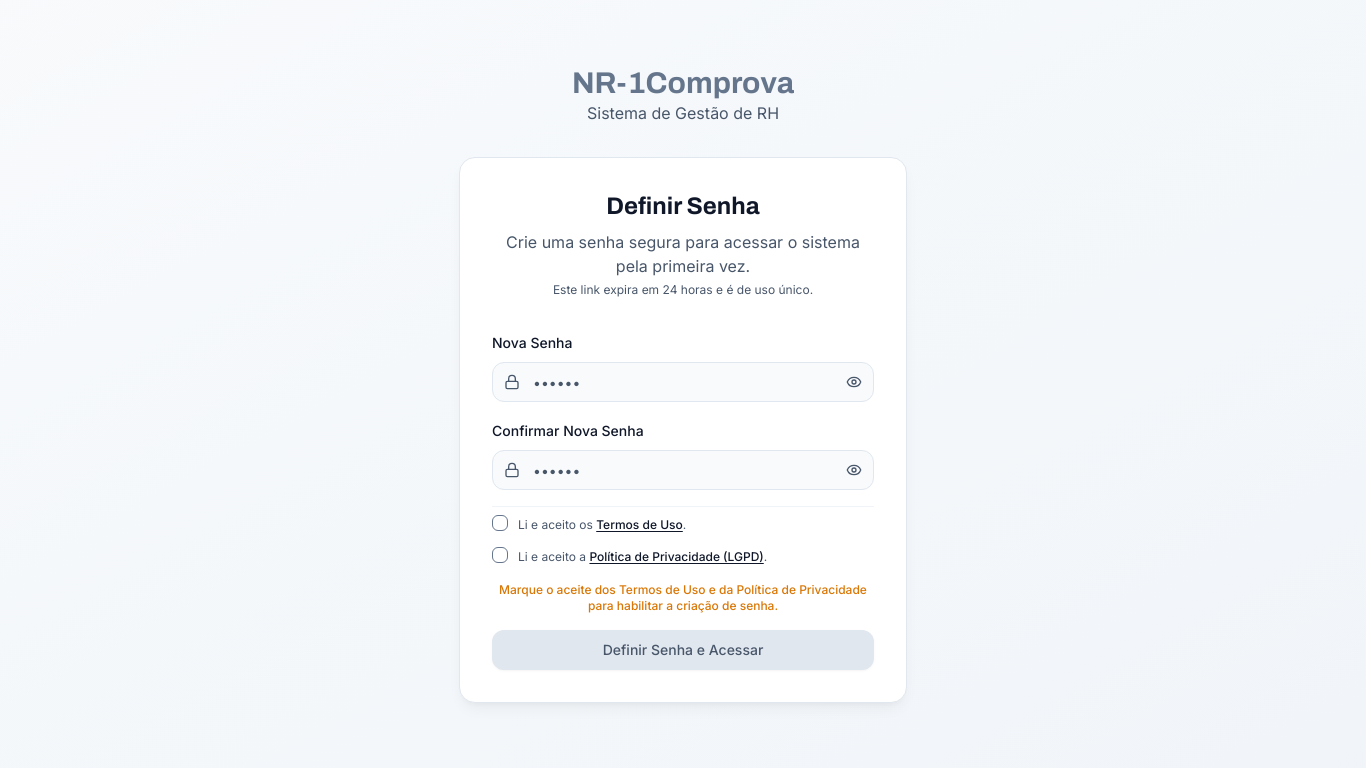
AtualizarSenha — Fluxo Anti-Scanner (Convite Seguro) › ETAPA 2: quando token já foi usado ou expirou: exibe erro claro e botão "Solicitar novo link" com e-mail preenchido
Later steps or results of the test are not shown.
Type "MinhaNovaSenha@2026" into the 1st password field with placeholder "••••••" at (683, 382), box x1=492 y1=362 x2=874 y2=402
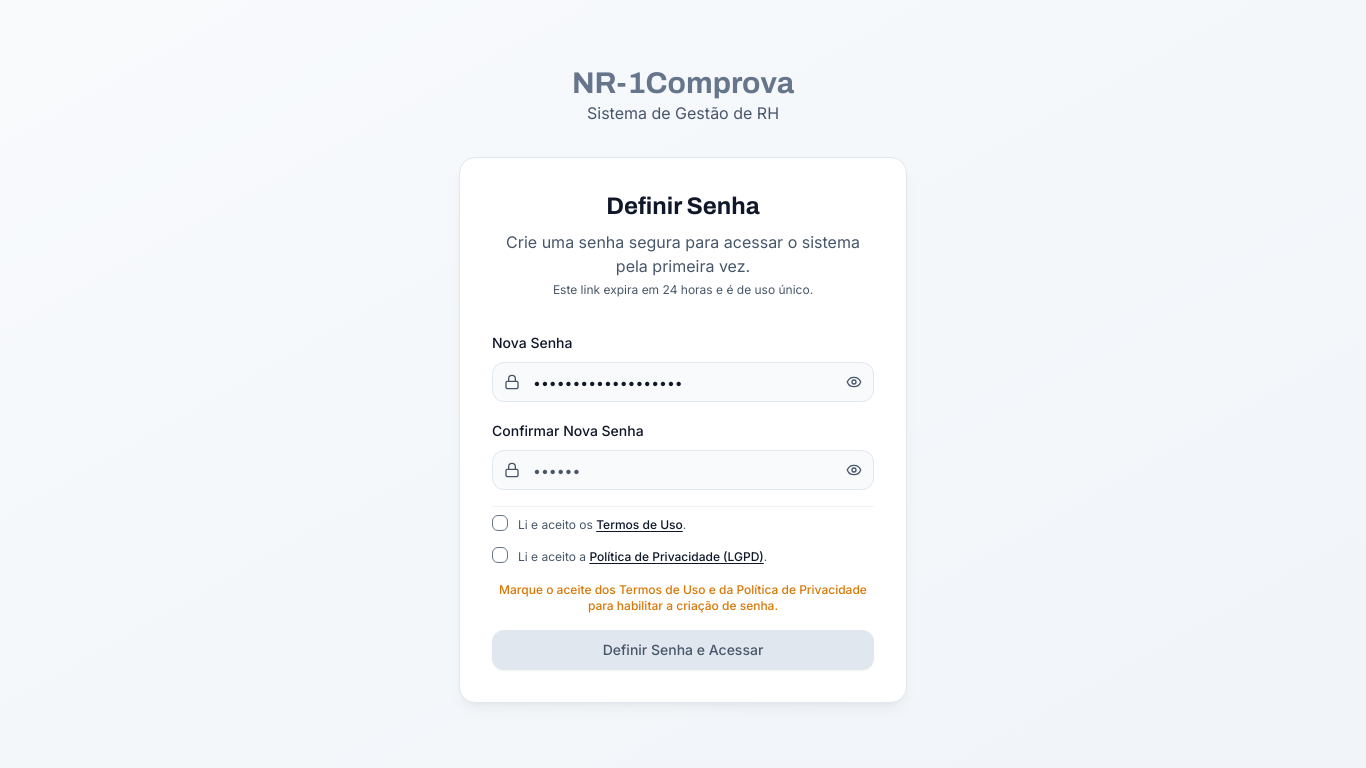
Type "MinhaNovaSenha@2026" into the password field with placeholder "••••••" at (683, 470), box x1=492 y1=450 x2=874 y2=490
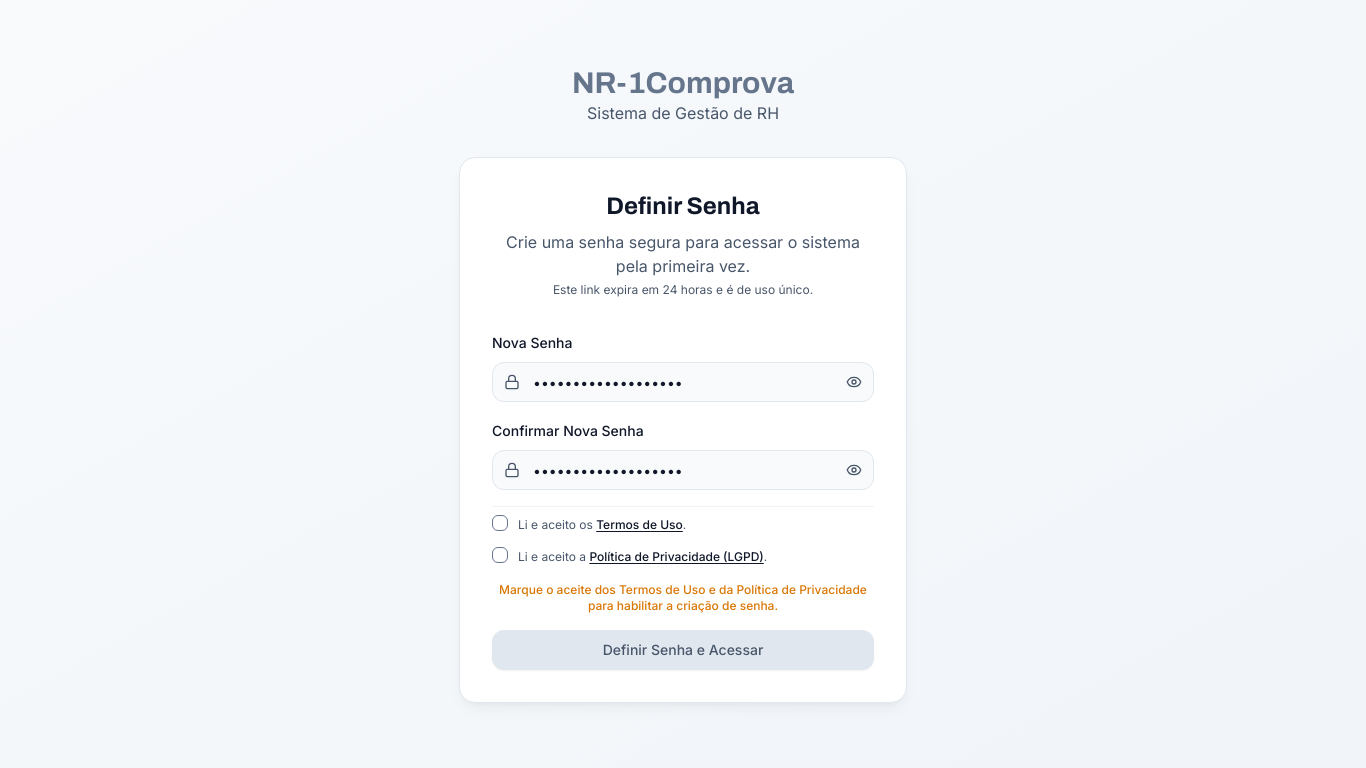
Click the checkbox named "Li e aceito os Termos de Uso" next to "Li e aceito os" at (500, 523), box x1=492 y1=515 x2=508 y2=531
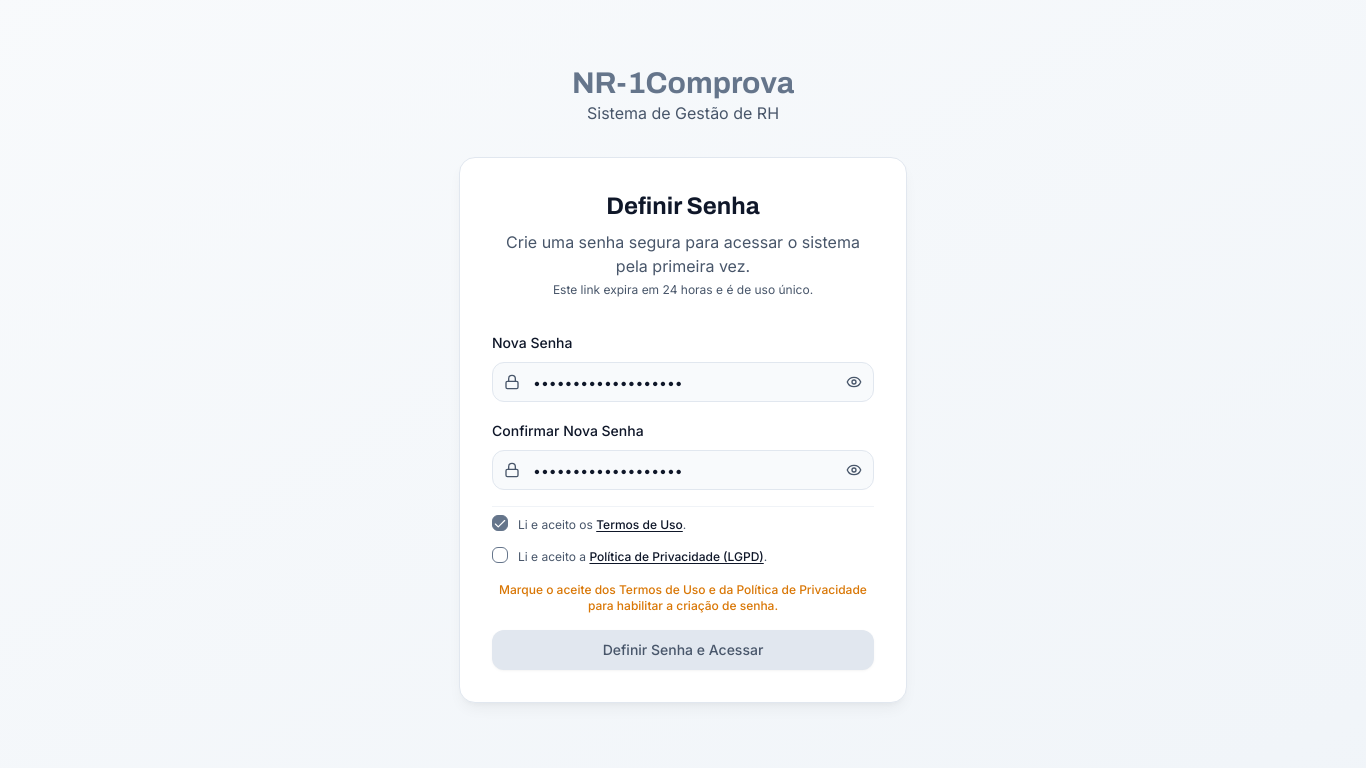
Click the checkbox named "Li e aceito a Política de Privacidade" next to "Li e aceito a" at (500, 554), box x1=492 y1=546 x2=508 y2=562
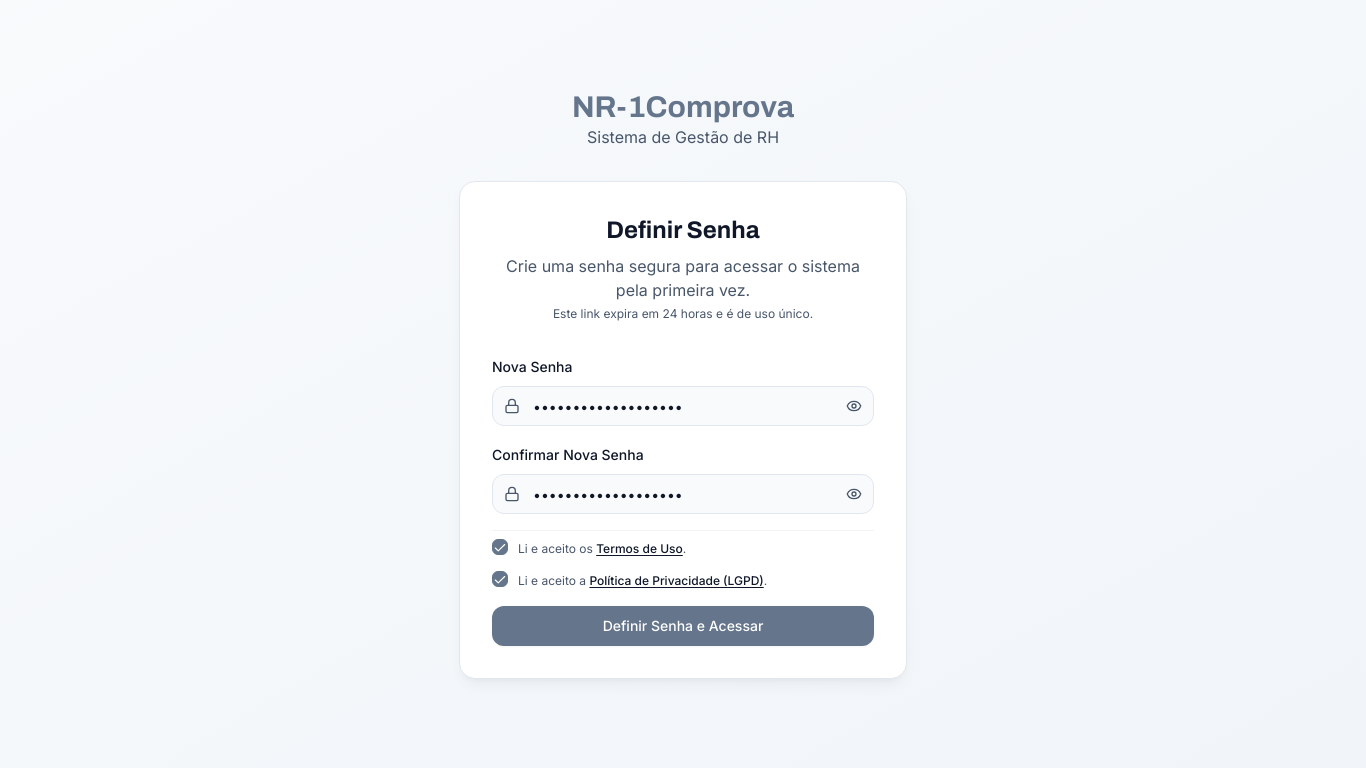
Click the button "Definir Senha e Acessar" at (683, 626), box x1=492 y1=606 x2=874 y2=646
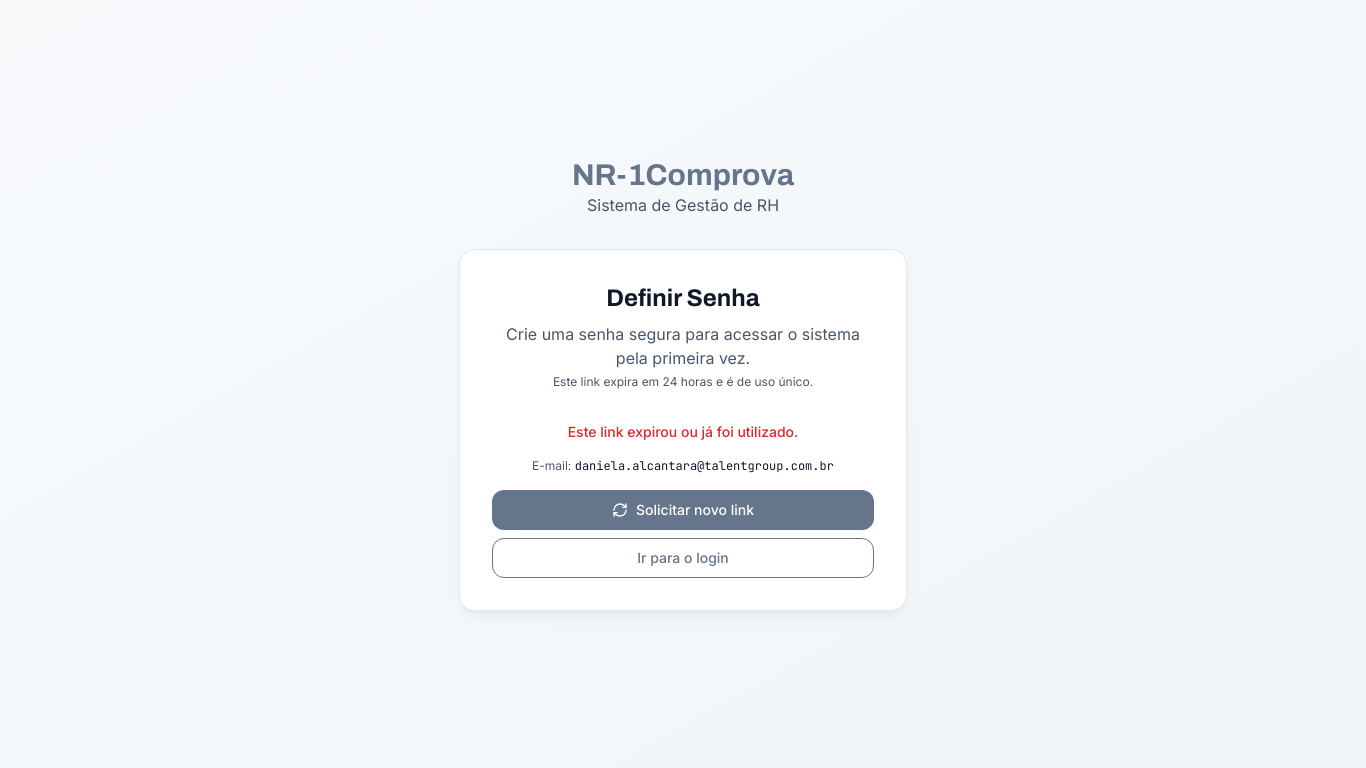
Check: the text "Este link expirou ou já foi utilizado." is shown, box x1=568 y1=423 x2=798 y2=440
Check: the button "Solicitar novo link" is shown
// Ao clicar, o modal abre com o e-mail preenchido dos parâmetros
Click the button "Solicitar novo link" at (683, 510), box x1=492 y1=490 x2=874 y2=530
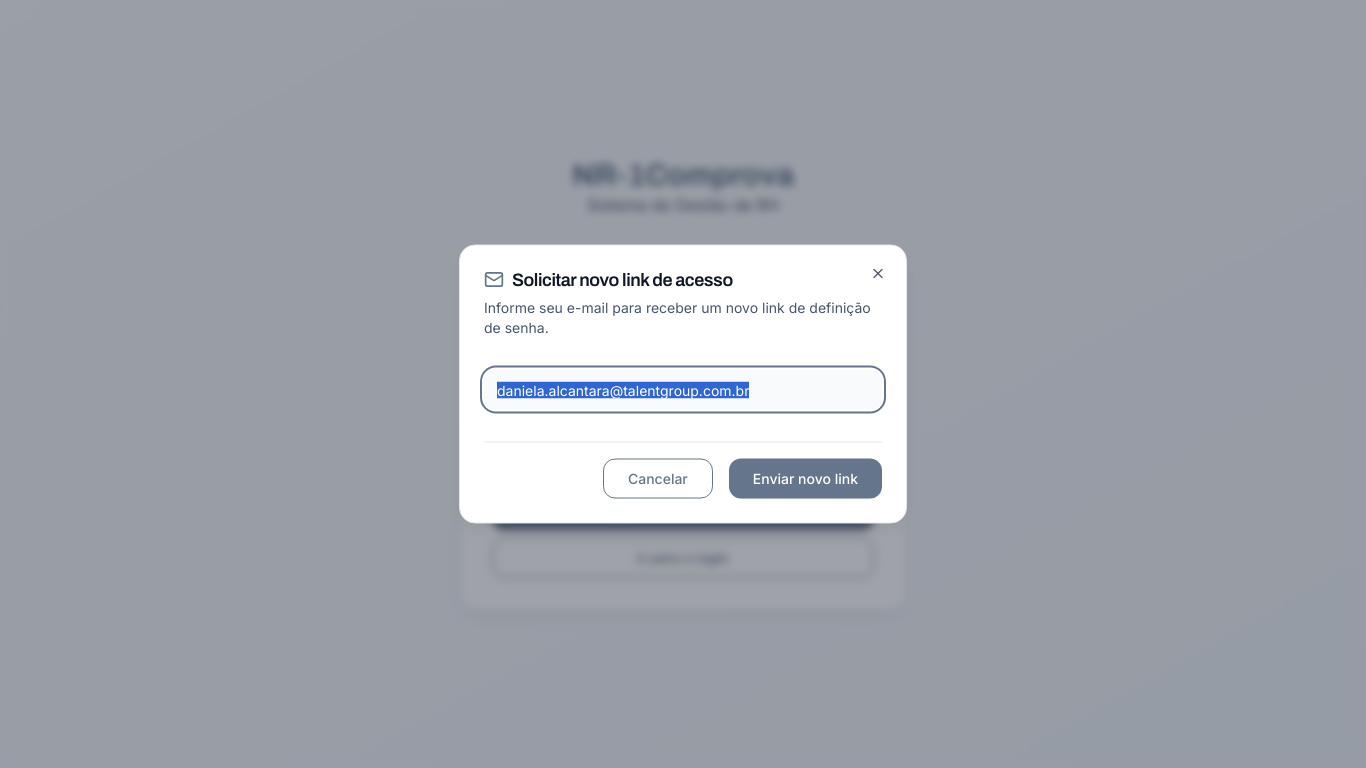
Check: the field with placeholder "seu.email@exemplo.com" holds "daniela.alcantara@talentgroup.com.br", box x1=484 y1=370 x2=882 y2=410
